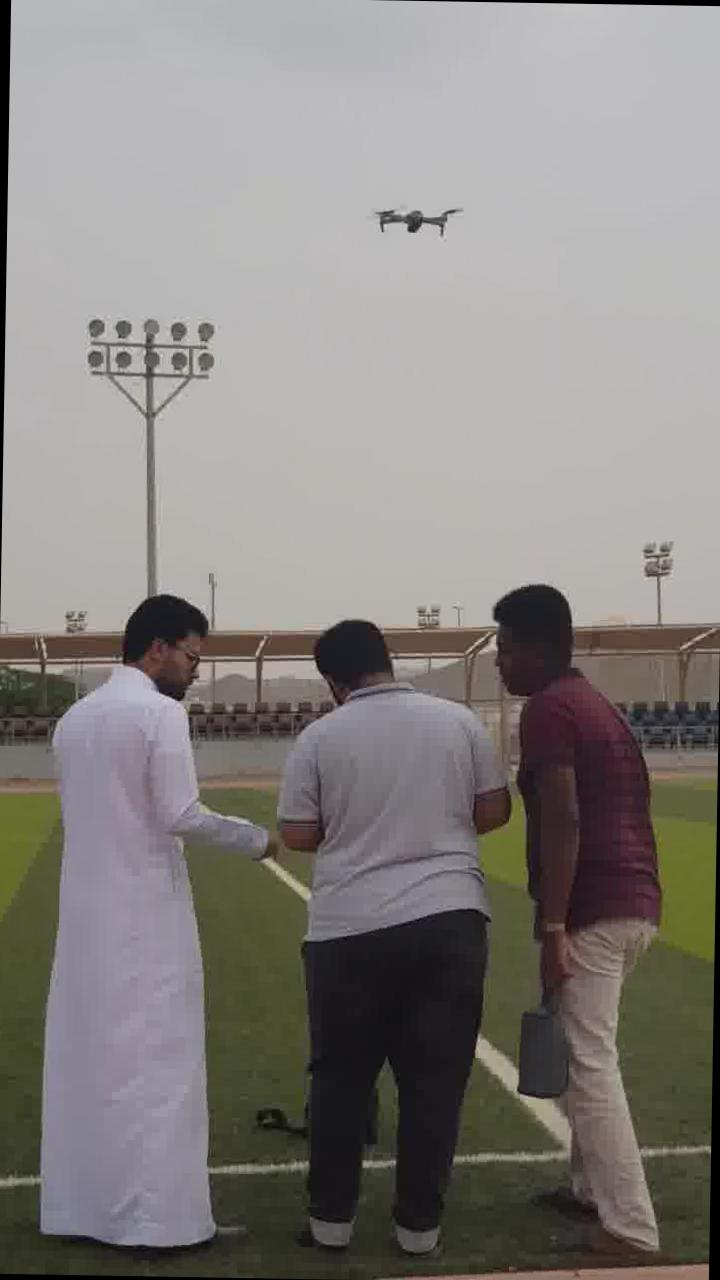drone: (362, 192, 462, 248)
